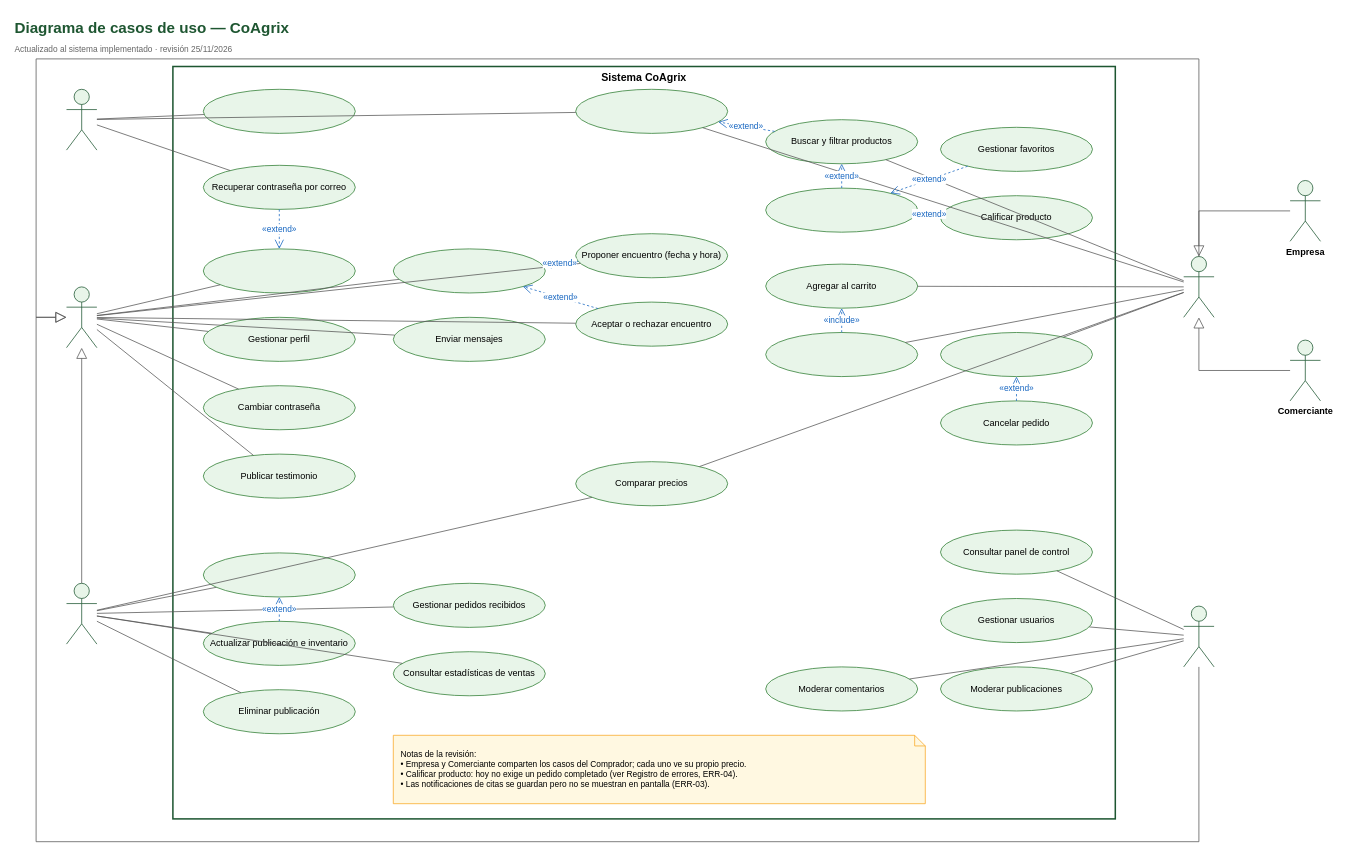
Some shapes in this 1346 by 866 pixel diagram are drawn without their labels. Each missing label, with the box of its shape:
Administrador: (1183, 605, 1214, 667)
Campesino: (66, 583, 97, 644)
Comprador: (1183, 256, 1214, 317)
Iniciar sesión: (203, 248, 355, 293)
Publicar producto: (203, 552, 355, 597)
Realizar pedido: (765, 332, 918, 377)
Registrarse (Campesino, Empresa o Comerciante): (203, 89, 355, 133)
Usuario registrado: (66, 286, 97, 348)
Ver catálogo de productos: (575, 89, 728, 133)
Ver detalle de producto: (765, 187, 918, 232)
Ver estado de pedidos: (940, 332, 1092, 377)
Ver historial de conversaciones: (393, 248, 545, 293)
Visitante: (66, 89, 97, 150)
